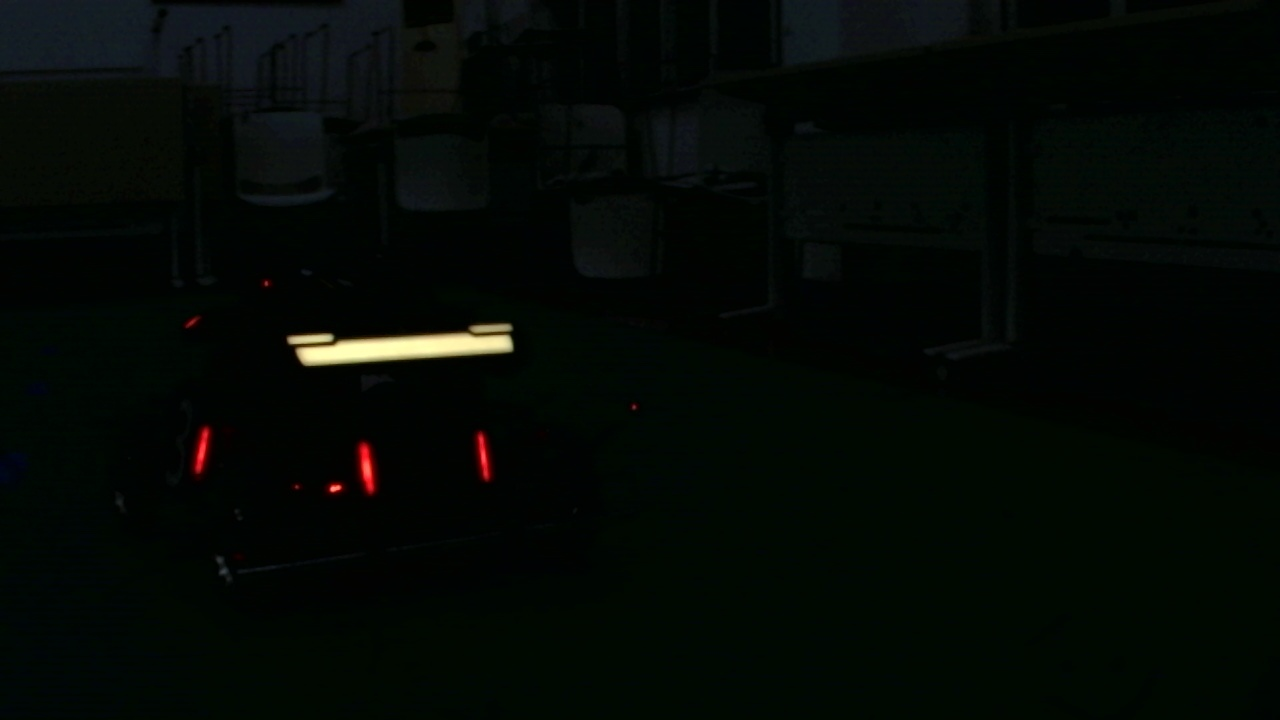lamp: (351, 436, 380, 500), (190, 418, 213, 478), (475, 428, 491, 479)
notpair1: (190, 420, 377, 498)
pair1: (357, 435, 494, 497)
